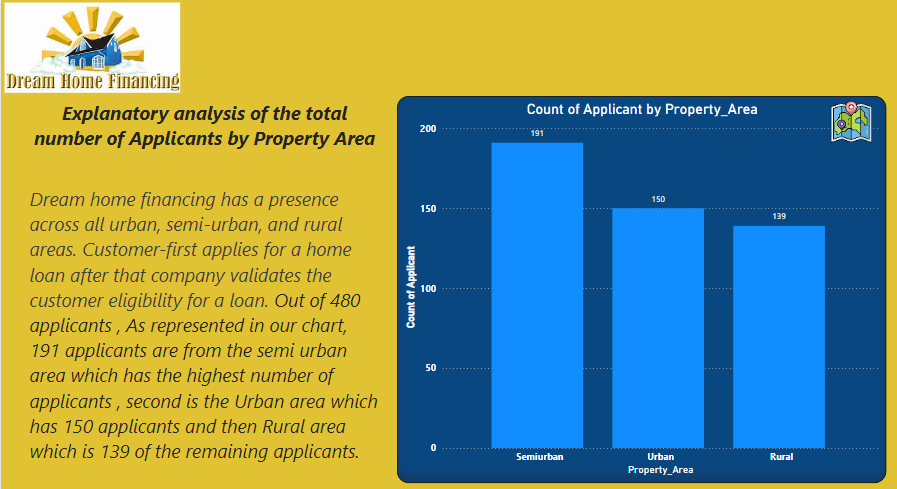

Layout of this report page (visuals, bound fields, positions):
{"tool":"powerbi","page":{"name":"page 4 ","canvas":[1280,720],"ordinal":4},"visuals":[{"type":"image","box":[0,0,261.4,138.6],"z":0},{"type":"textbox","box":[35.7,138.6,510,581.4],"z":1000},{"type":"columnChart","fields":{"Y":["CountNonNull(loan-train.Loan_ID)"],"Category":["loan-train.Property_Area"]},"box":[565.7,138.6,698.6,552.9],"z":2000},{"type":"image","box":[1165.7,138.6,98.6,74.3],"z":2001}]}

Visuals, with their boxes on the page's 1280x720 design canvas (x1, y1, x2, y2). These are canvas units, not pixel positions in the 897x489 screenshot, which may show the page scaled, cropped or inside an application window:
image: detection(0, 0, 261, 139)
textbox: detection(36, 139, 546, 720)
columnChart - CountNonNull(loan-train.Loan_ID) x loan-train.Property_Area: detection(566, 139, 1264, 692)
image: detection(1166, 139, 1264, 213)
